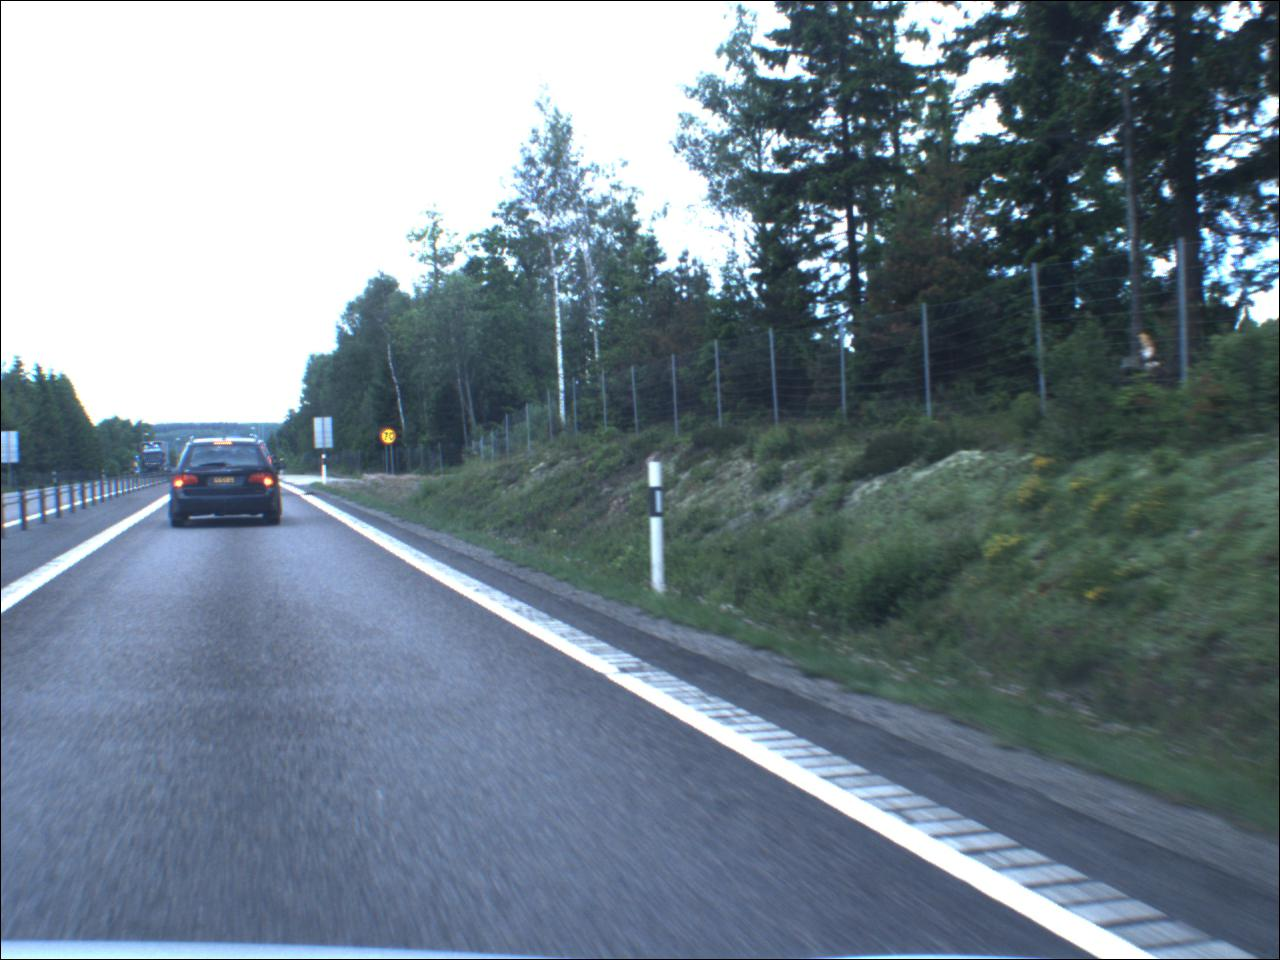70_SIGN: (382, 428, 400, 448)
